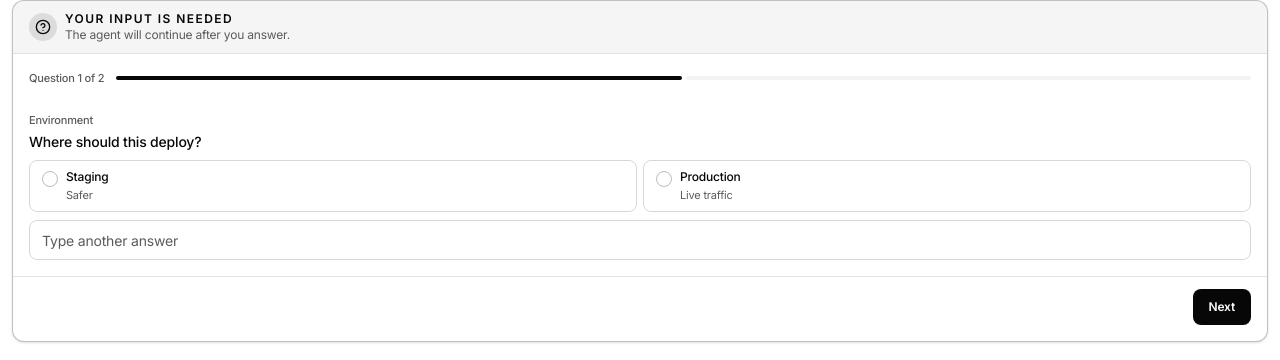
Test: AskUserQuestionCard › swipes between questions in both directions
The image size is (1280, 360).
Step 1. Press the mouse on the element with test id "question-step-body" → (640, 183), box [29, 106, 1251, 260]
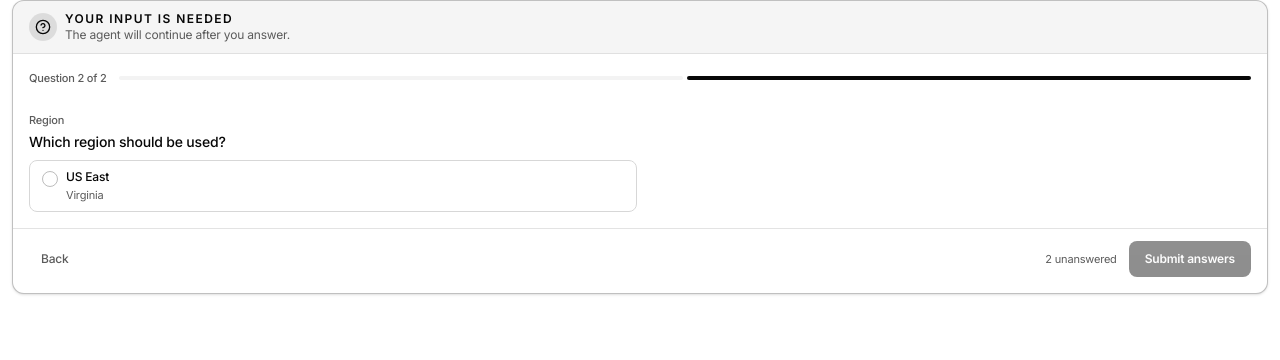
Expected: the text "Which region should be used?" is shown, [29, 133, 226, 150]
Step 2. Press the mouse on the element with test id "question-step-body" → (333, 162), box [29, 113, 637, 212]
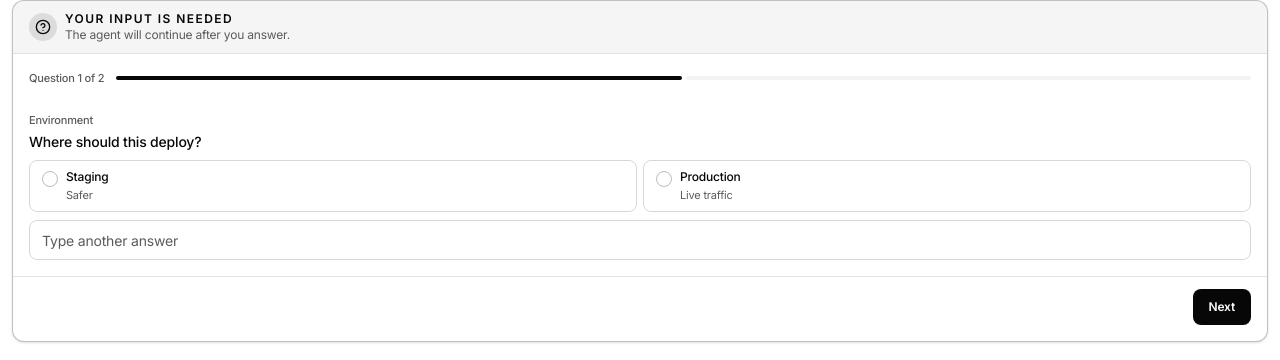
Expected: the text "Where should this deploy?" is shown, [29, 133, 201, 150]
